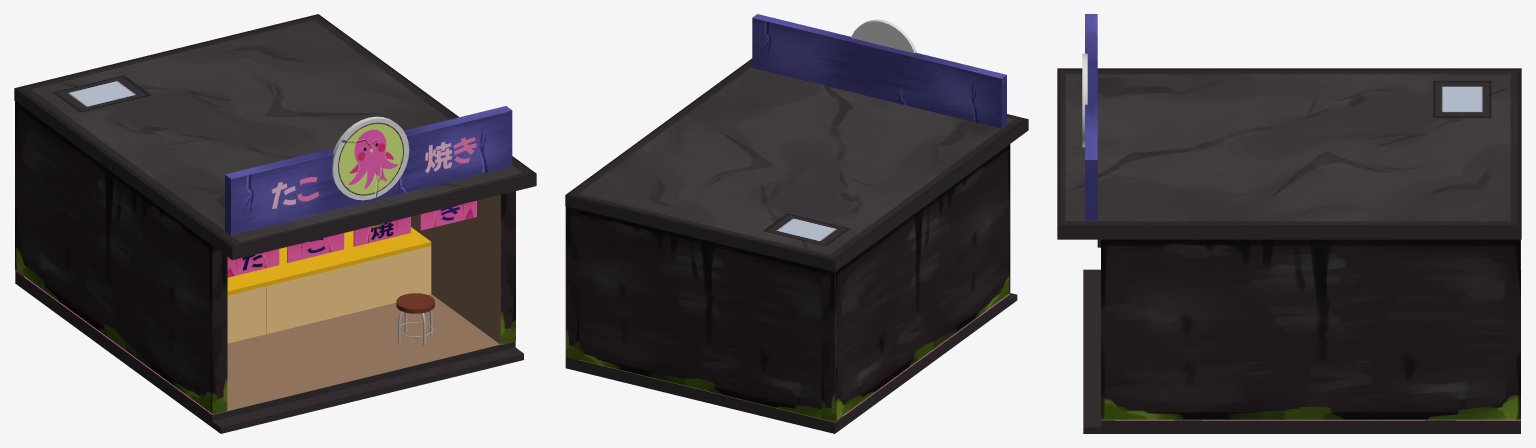
The model's file is Takoyaki_Shop.fbx.
3 views of the same model, side by side, from view 1: azimuth 30°, elevation 25°; view 2: azimuth 150°, elevation 25°; view 3: azimuth 270°, elevation 25° (orthographic). The views are drawn at different scales.
Visible parts, largest first — view 1: Roof, Wall_SIde.002, Floor/Ground, Roof.001, Table, Wall_SIde.001, Sign, TableDoorFront, Name_Curtin.001, Name_Curtin.003, Name_Curtin.002, Name_Curtin (+2 smaller); view 2: Roof, Wall_back, Wall_SIde.002, Roof.001, Floor/Ground, Wall_SIde.001, Sign; view 3: Roof, Wall_SIde.001, Floor/Ground, Roof.001.
Boxes of the visible parts, x1,y1,x2,y2 form: Roof: [14, 14, 536, 259]; Wall_SIde.002: [15, 101, 227, 414]; Floor/Ground: [15, 271, 523, 433]; Roof.001: [225, 106, 512, 235]; Table: [252, 227, 431, 334]; Wall_SIde.001: [411, 191, 515, 344]; Sign: [331, 116, 409, 200]; TableDoorFront: [227, 286, 265, 343]; Name_Curtin.001: [287, 233, 344, 262]; Name_Curtin.003: [420, 200, 477, 230]; Name_Curtin.002: [353, 216, 410, 246]; Name_Curtin: [227, 249, 279, 277]; Roof: [565, 58, 1028, 271]; Wall_back: [579, 209, 843, 422]; Wall_SIde.002: [821, 144, 1010, 421]; Roof.001: [752, 14, 1006, 128]; Floor/Ground: [565, 293, 1017, 433]; Wall_SIde.001: [565, 206, 579, 359]; Sign: [851, 19, 916, 53]; Roof: [1057, 68, 1521, 247]; Wall_SIde.001: [1101, 239, 1520, 420]; Floor/Ground: [1083, 269, 1520, 433]; Roof.001: [1085, 14, 1097, 220].
Bounding box in the file's own units: 522 × 457 × 649.
